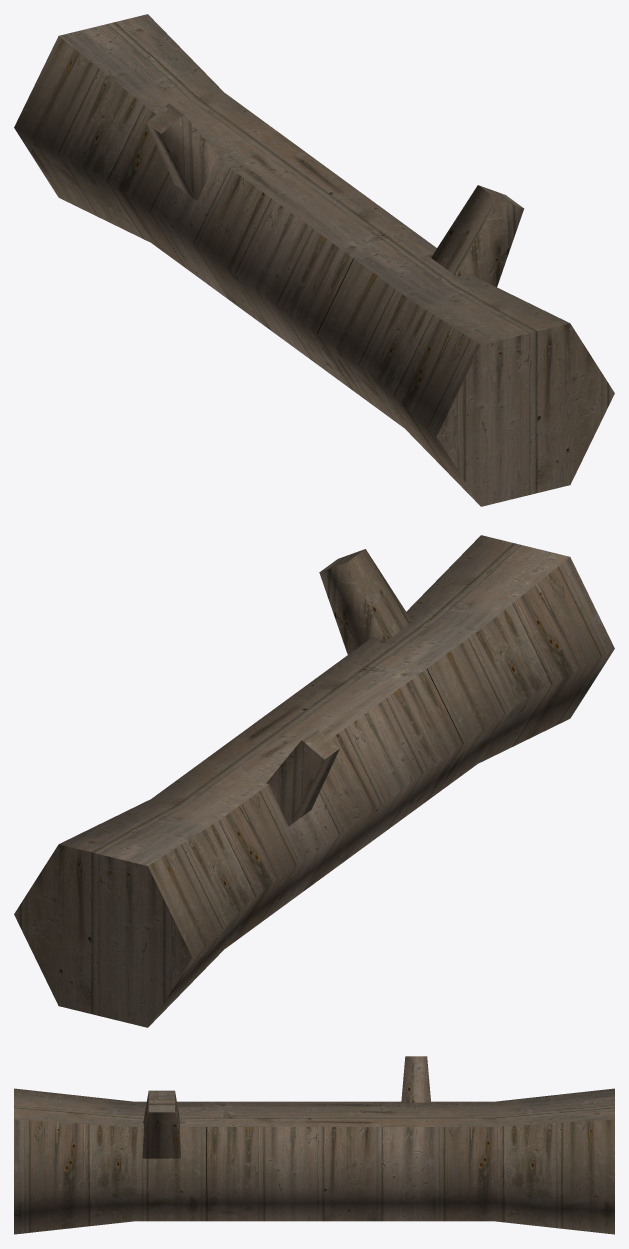
File: cut-timber.glb
The picture shows the model from 3 angles, top to bottom: view 1: azimuth 30°, elevation 25°; view 2: azimuth 150°, elevation 25°; view 3: azimuth 270°, elevation 25°; orthographic projection. The views are drawn at different scales.
Parts seen in each view (by area): view 1: tree-log; view 2: tree-log; view 3: tree-log.
Boxes of the visible parts, left/top/right/bottom form: tree-log: left=14, top=14, right=614, bottom=506; tree-log: left=14, top=535, right=614, bottom=1027; tree-log: left=14, top=1056, right=614, bottom=1234.
Size of the model in its own units: 0.2495 by 0.2771 by 1.
1 material, 1 textured.
